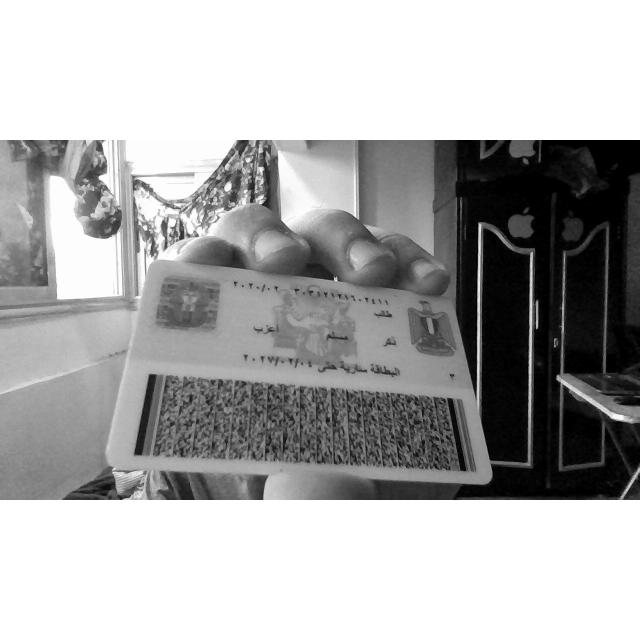id_card: (106, 259, 492, 484)
